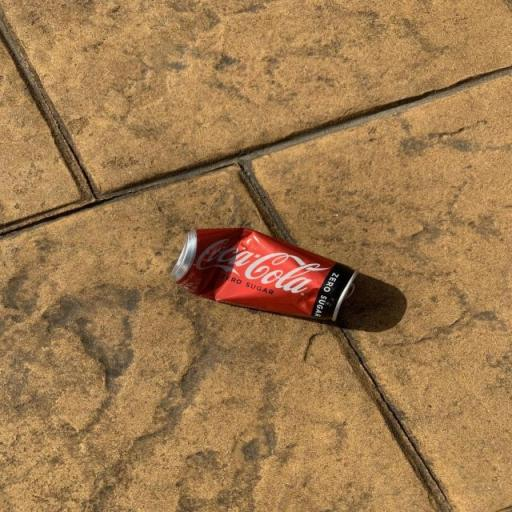metal: (151, 220, 370, 334)
